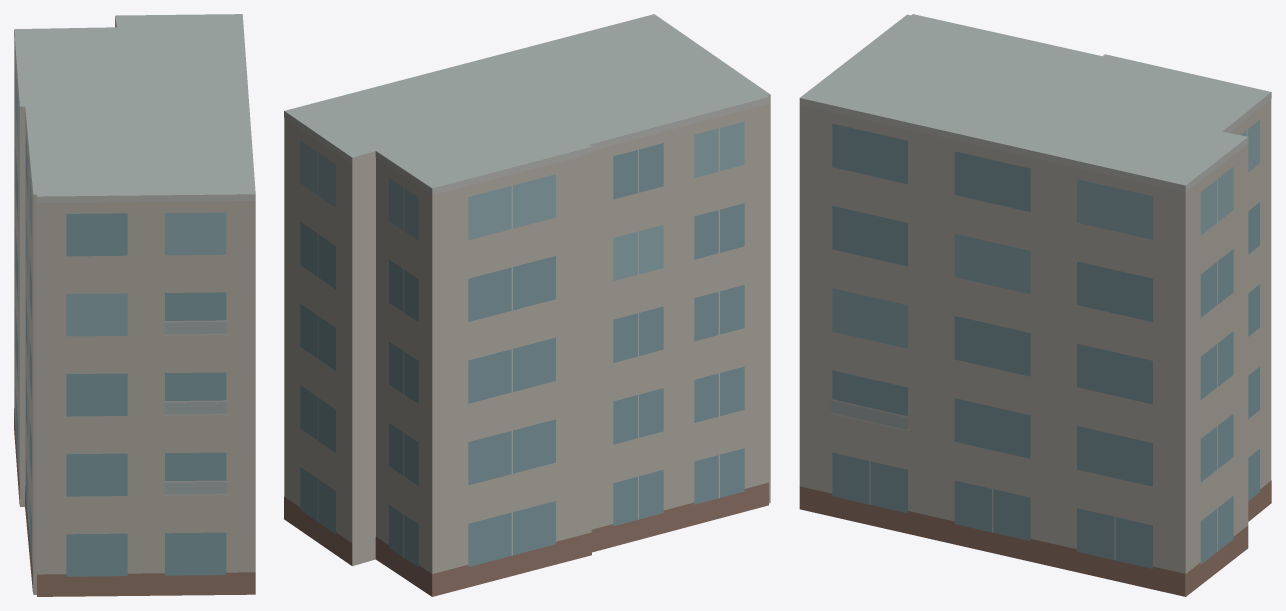
File: survey-upis-32728394.glb
The picture shows the model from 3 angles, left to right: view 1: azimuth 30°, elevation 25°; view 2: azimuth 150°, elevation 25°; view 3: azimuth 270°, elevation 25°; orthographic projection. The views are drawn at different scales.
Parts seen in each view (by area): view 1: survey-upis-32728394.tmp; view 2: survey-upis-32728394.tmp; view 3: survey-upis-32728394.tmp.
Boxes of the visible parts, left/top/right/bottom form: survey-upis-32728394.tmp: left=14, top=14, right=255, bottom=596; survey-upis-32728394.tmp: left=284, top=14, right=770, bottom=596; survey-upis-32728394.tmp: left=799, top=14, right=1271, bottom=596.
Size of the model in its own units: 13.2 by 14.75 by 15.34.
